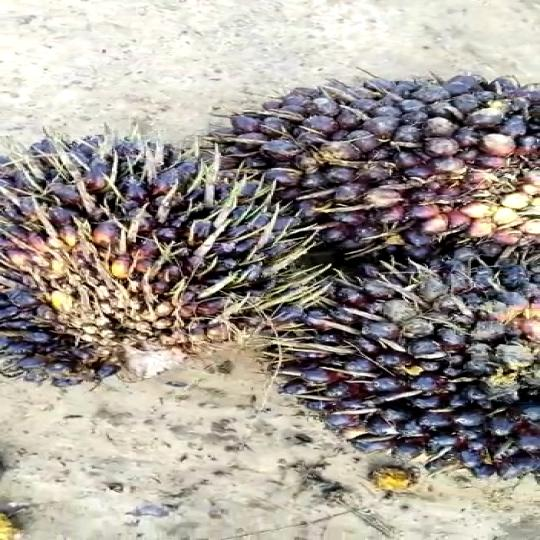mentah: (7, 131, 324, 370), (225, 242, 540, 476), (209, 64, 540, 263)
